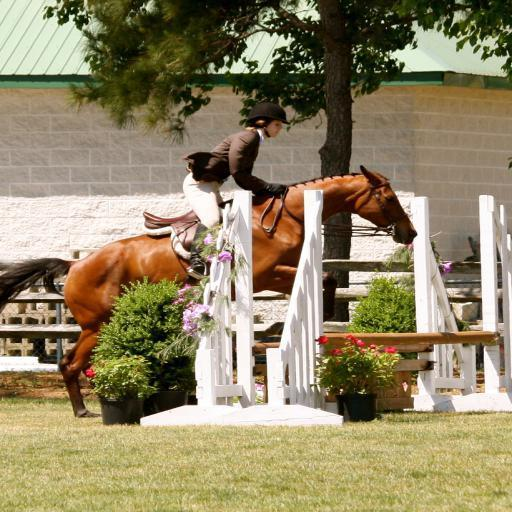horse: (0, 166, 419, 420)
